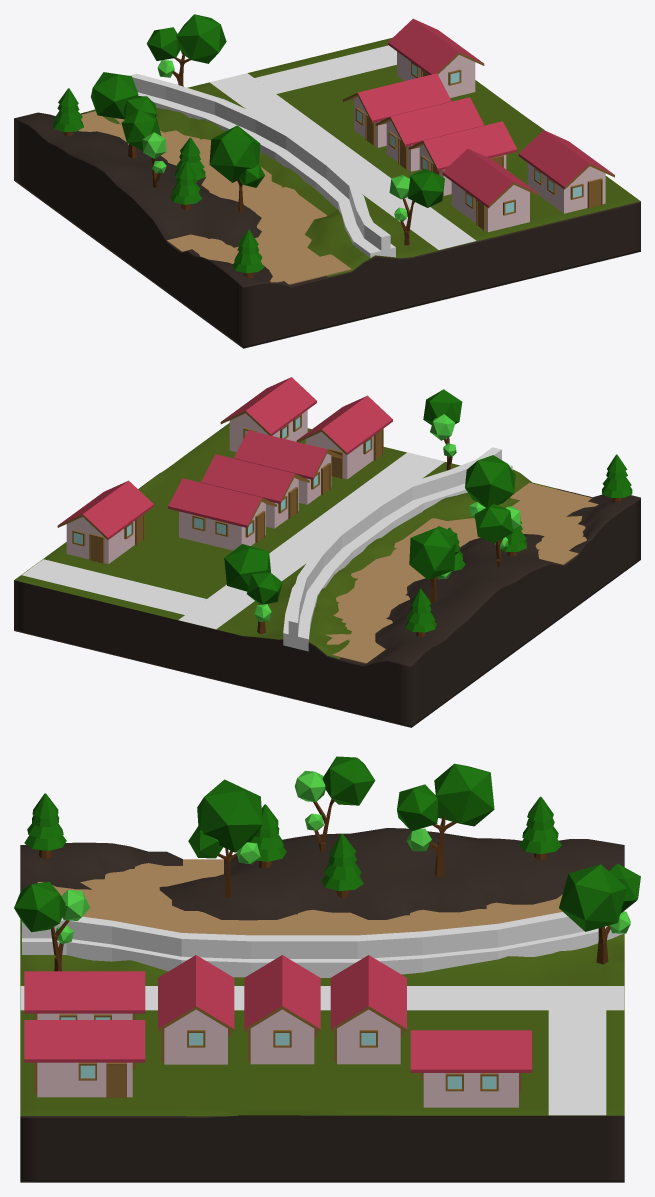
Rendered from Banjir KMM.fbx.
The picture shows the model from 3 angles, top to bottom: view 1: azimuth 30°, elevation 25°; view 2: azimuth 150°, elevation 25°; view 3: azimuth 270°, elevation 25°; orthographic projection. The views are drawn at different scales.
Parts seen in each view (by area): view 1: Land, Water, Road, House, House.001, Wall, House.005, House.003, House.004, Foundation, House.002, Road.001 (+12 smaller); view 2: Land, Water, Road, House.004, House.005, House, House.001, Wall, House.002, House.003, Foundation, Road.001 (+8 smaller); view 3: Land, Water, Wall, House.001, House.005, Foundation, House.003, House.002, House.004, Road, Road.001, House (+14 smaller).
Part boxes in pixels (x1,y1,x2,y2): Land: [14, 37, 640, 348]; Water: [78, 111, 350, 284]; Road: [210, 73, 476, 249]; House: [442, 148, 538, 232]; House.001: [518, 130, 614, 213]; Wall: [129, 73, 390, 250]; House.005: [388, 18, 484, 97]; House.003: [375, 97, 484, 171]; House.004: [343, 73, 451, 147]; Foundation: [138, 92, 395, 257]; House.002: [408, 121, 517, 195]; Road.001: [254, 45, 396, 93]; Land: [14, 423, 640, 727]; Water: [325, 482, 598, 663]; Road: [178, 452, 444, 629]; House.004: [168, 478, 276, 550]; House.005: [57, 480, 153, 563]; House: [296, 395, 392, 479]; House.001: [220, 377, 316, 452]; Wall: [288, 447, 501, 636]; House.002: [233, 430, 342, 504]; House.003: [201, 454, 309, 528]; Foundation: [283, 465, 512, 651]; Road.001: [21, 559, 206, 614]; Land: [20, 828, 624, 1182]; Water: [37, 859, 562, 935]; Wall: [22, 911, 624, 958]; House.001: [24, 1020, 145, 1098]; House.005: [410, 1030, 531, 1107]; Foundation: [22, 926, 623, 977]; House.003: [244, 955, 320, 1064]; House.002: [158, 955, 234, 1064]; House.004: [330, 955, 406, 1064]; Road: [20, 986, 624, 1010]; Road.001: [548, 1010, 606, 1115]; House: [24, 971, 145, 1019].
Bounding box in the file's own units: 200 × 69 × 208.
